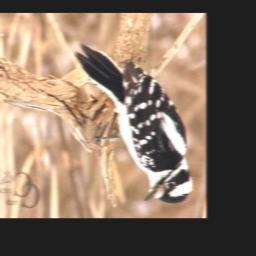Woodpecker: (73, 39, 195, 205)
